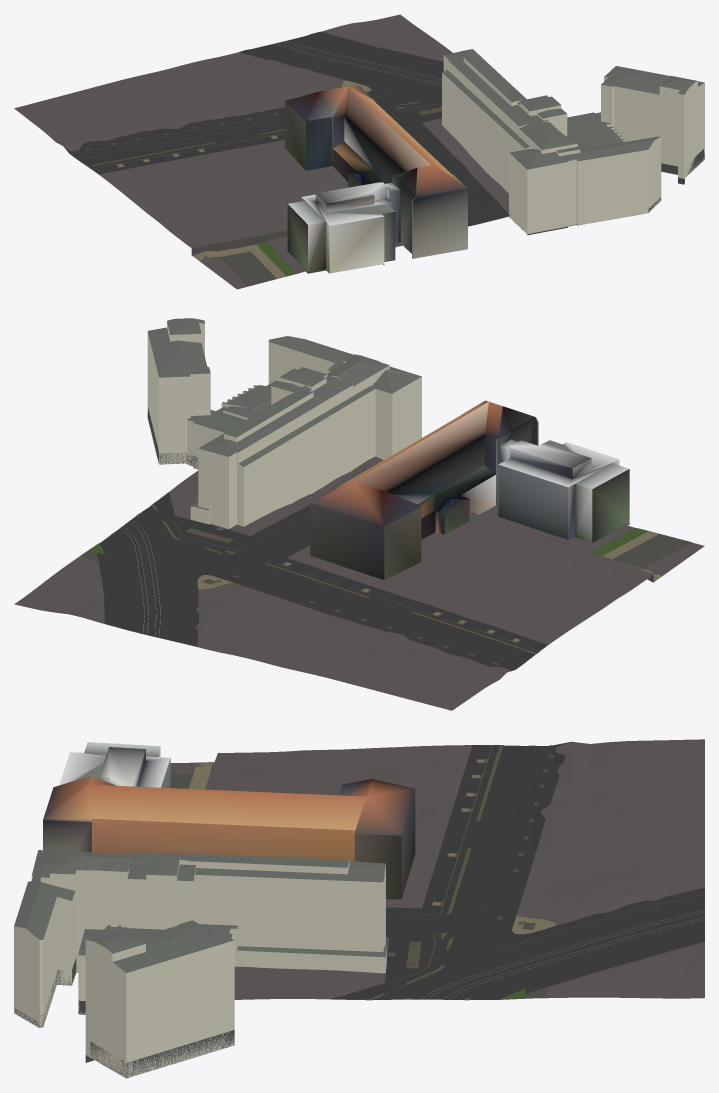
3 views of the same model, one above another, from view 1: azimuth 30°, elevation 25°; view 2: azimuth 150°, elevation 25°; view 3: azimuth 270°, elevation 25° (orthographic). The views are drawn at different scales.
Parts seen in each view (by area): view 1: c_m13_m02; view 2: c_m13_m02; view 3: c_m13_m02.
Part boxes in pixels (box(x1,y1,x2,y2)): c_m13_m02: box(14, 14, 704, 289); c_m13_m02: box(14, 318, 704, 710); c_m13_m02: box(14, 739, 704, 1078).
Size of the model in its own units: 159 by 29.8 by 145.
